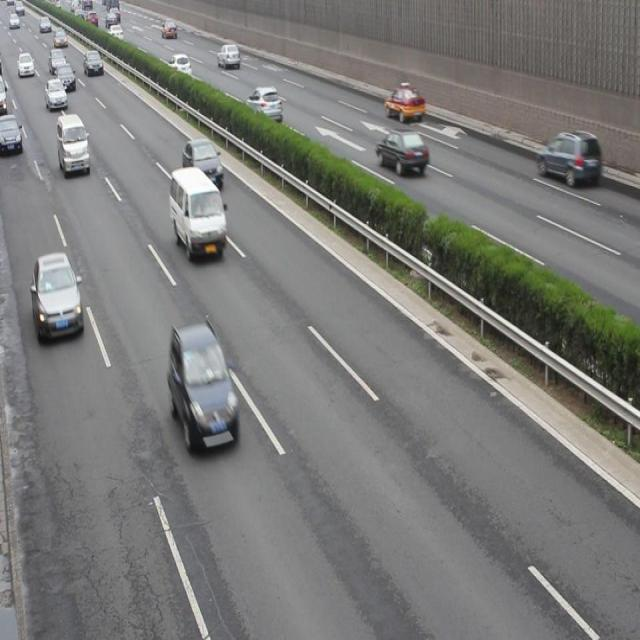car: (169, 319, 239, 451), (32, 250, 85, 338), (534, 126, 602, 185), (374, 126, 428, 178), (181, 135, 224, 191), (383, 85, 425, 124), (247, 82, 282, 125), (1, 114, 24, 155)
truck: (168, 166, 227, 261), (56, 112, 89, 177)
